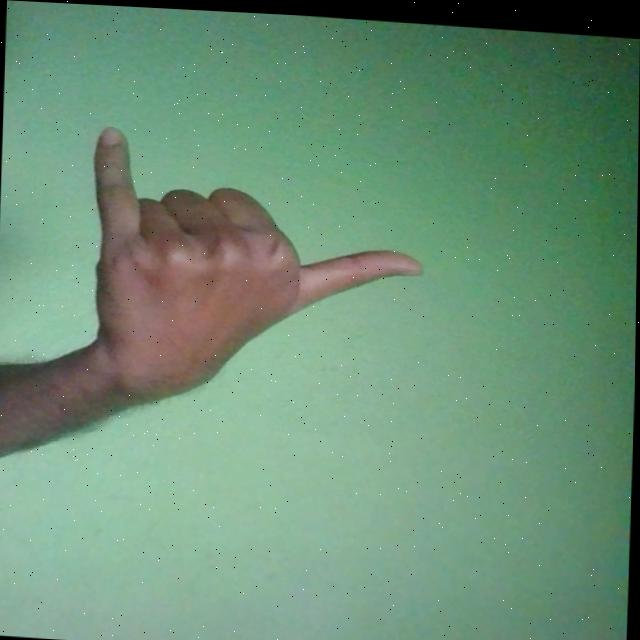Call Me: (83, 126, 429, 424)
